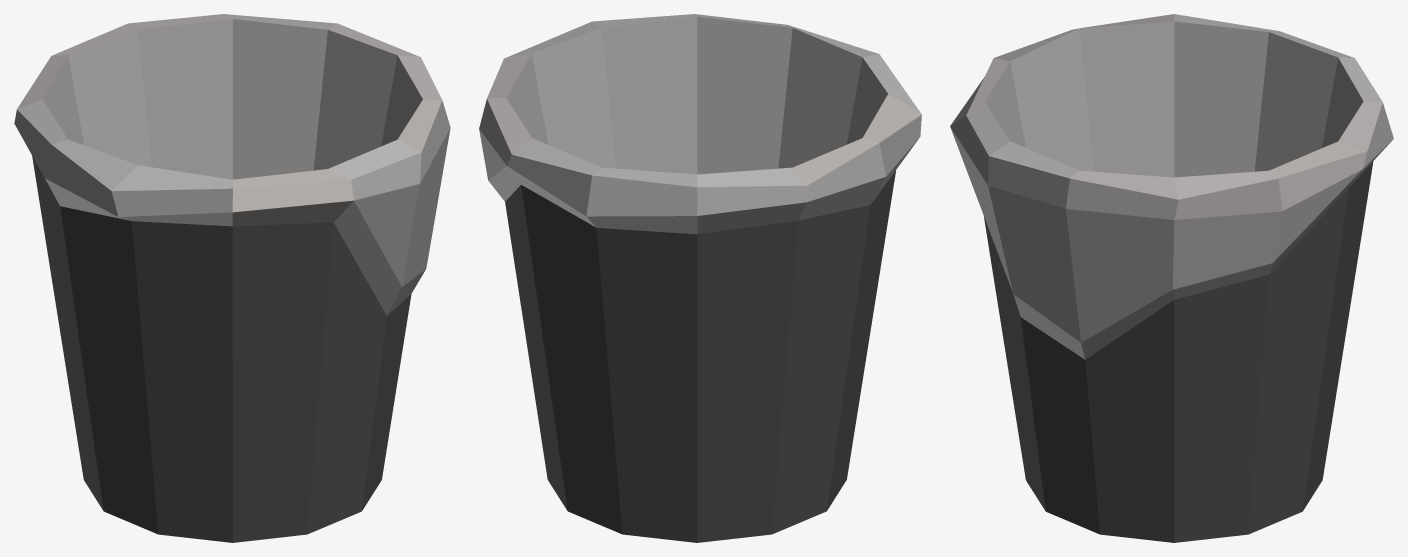
File: SM_Prop_Bin_01.glb
3 views of the same model, side by side, from view 1: azimuth 30°, elevation 25°; view 2: azimuth 150°, elevation 25°; view 3: azimuth 270°, elevation 25° (orthographic).
Parts seen in each view (by area): view 1: SM_Prop_Bin_01; view 2: SM_Prop_Bin_01; view 3: SM_Prop_Bin_01.
Part boxes in pixels (x1,y1,x2,y2): SM_Prop_Bin_01: (14, 14, 450, 542); SM_Prop_Bin_01: (479, 14, 921, 542); SM_Prop_Bin_01: (950, 14, 1393, 542).
Bounding box in the file's own units: 0.4507 × 0.4376 × 0.46.
Materials: 1 (1 with a texture image).
